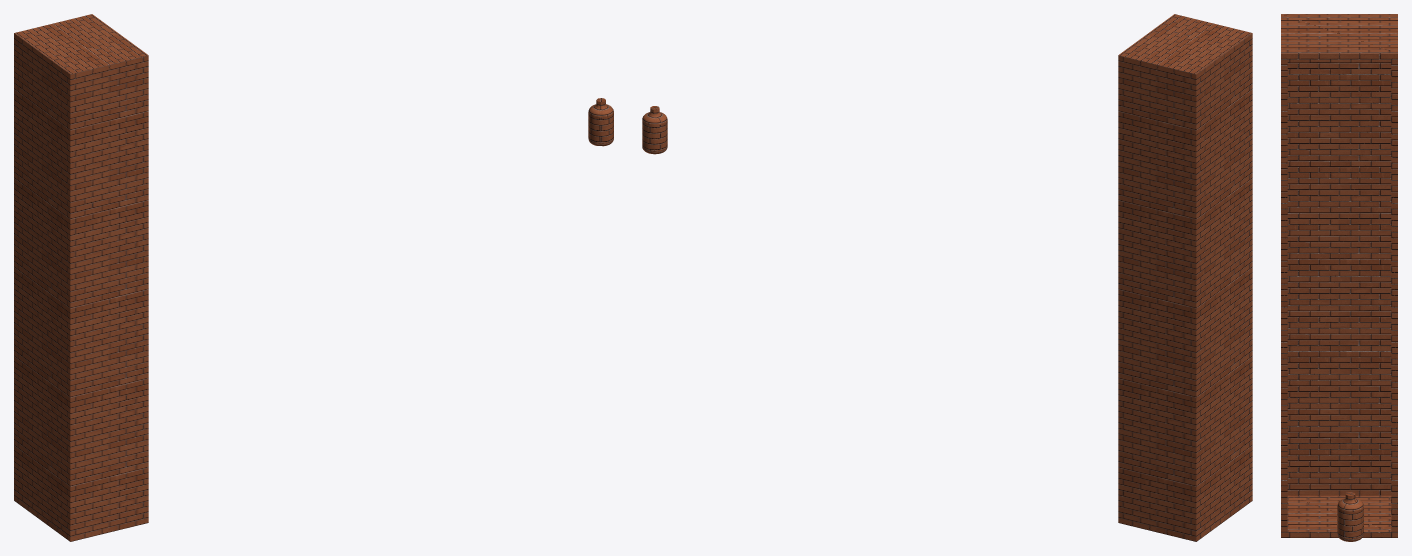
The picture shows the model from 3 angles, left to right: view 1: azimuth 30°, elevation 25°; view 2: azimuth 150°, elevation 25°; view 3: azimuth 270°, elevation 25°; orthographic projection. The views are drawn at different scales.
Size of the model in its own units: 2.06 by 1.6 by 0.35.
1 material, 1 textured.
